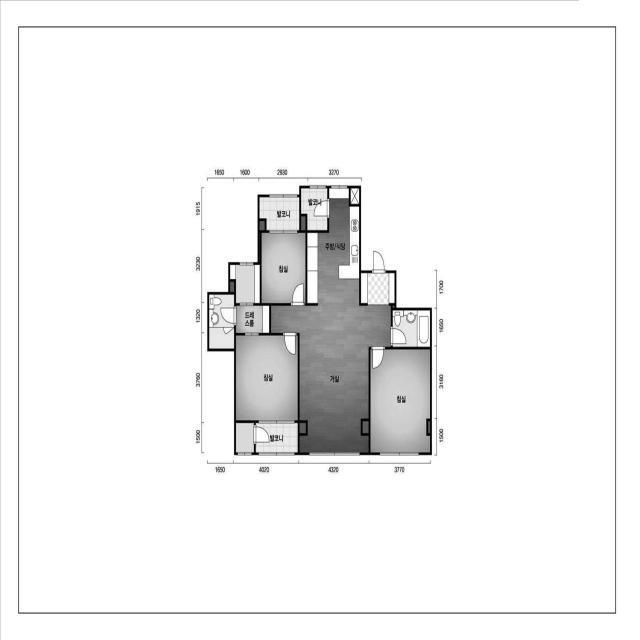space_balconi: (259, 197, 299, 231), (256, 423, 298, 453), (301, 188, 327, 230)
space_bedroom: (370, 349, 430, 452), (236, 335, 298, 420), (261, 233, 306, 303)
space_dressroom: (230, 265, 260, 303), (236, 306, 269, 333)
space_front: (361, 273, 395, 305)
space_kitchen: (307, 188, 359, 303)
space_living_room: (271, 306, 391, 453)
space_other: (236, 423, 254, 453), (350, 188, 359, 205), (362, 421, 369, 433), (299, 423, 306, 433), (301, 216, 305, 230), (259, 221, 265, 230), (230, 282, 234, 292), (428, 421, 430, 433)
space_toilet: (392, 310, 430, 347), (209, 294, 234, 349)
